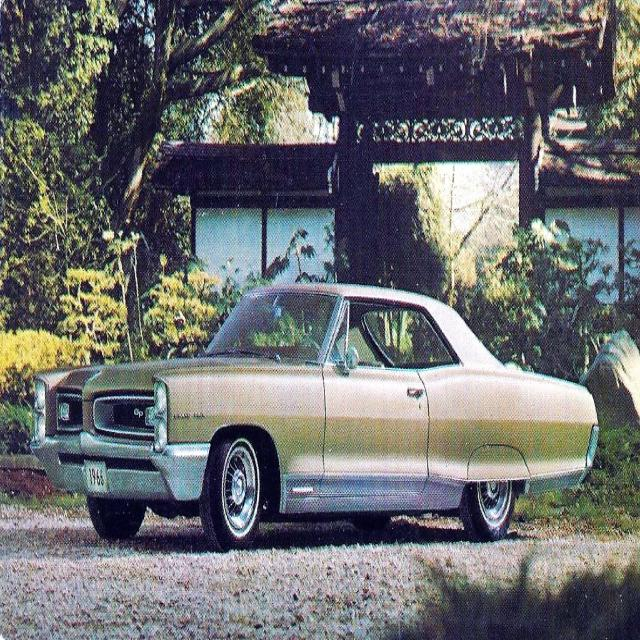car: (33, 274, 585, 541)
